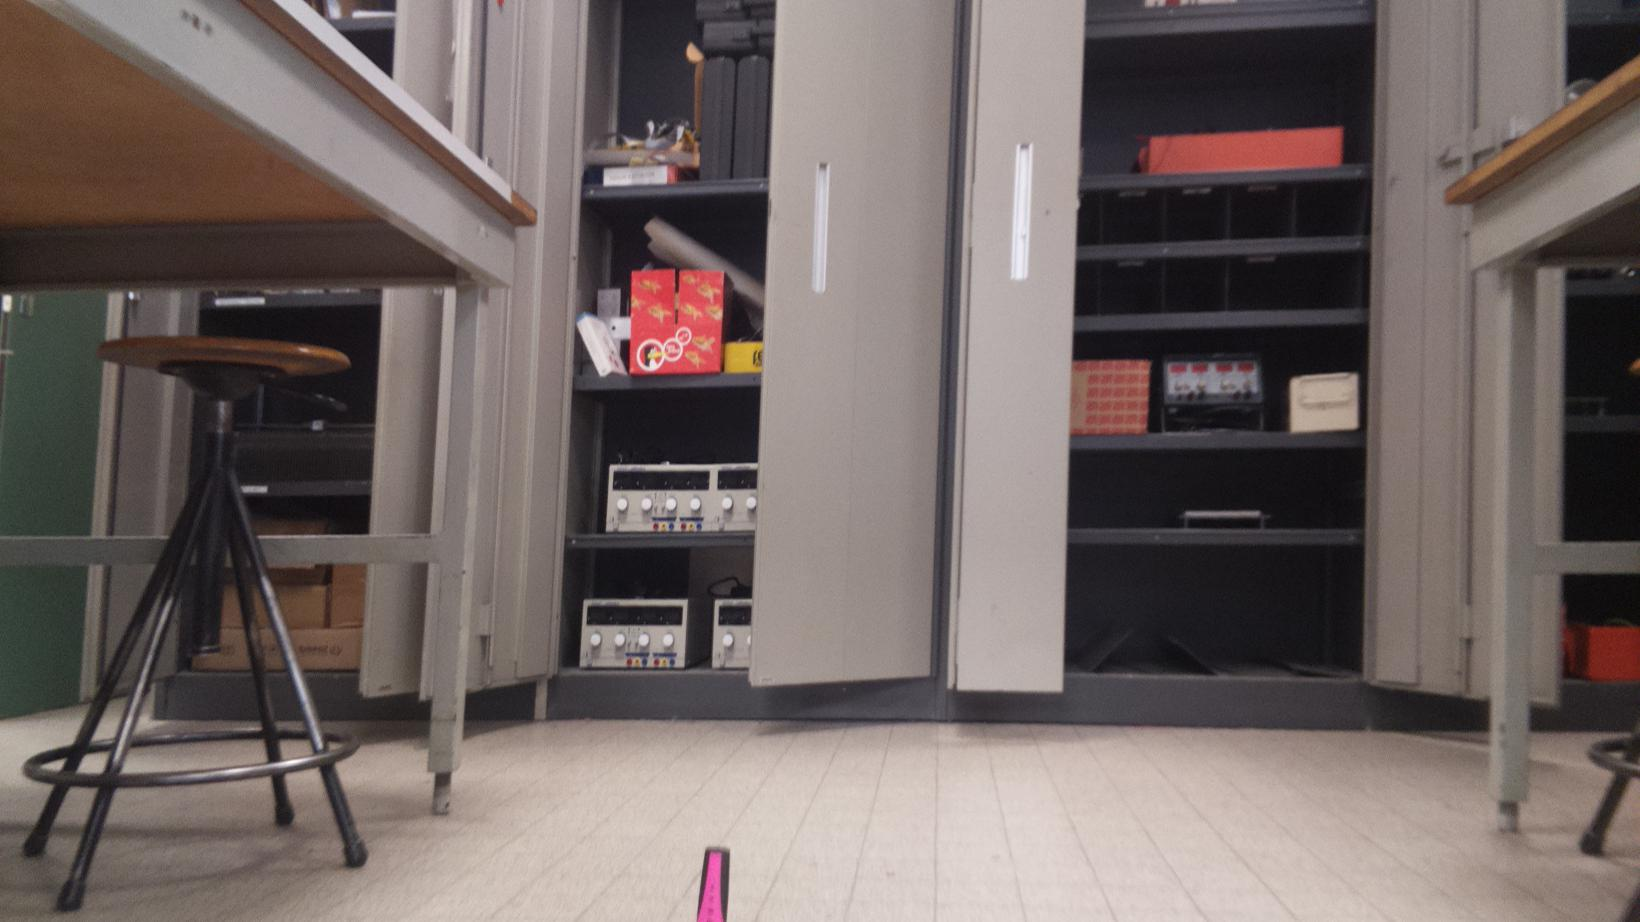small: (694, 842, 737, 922)
